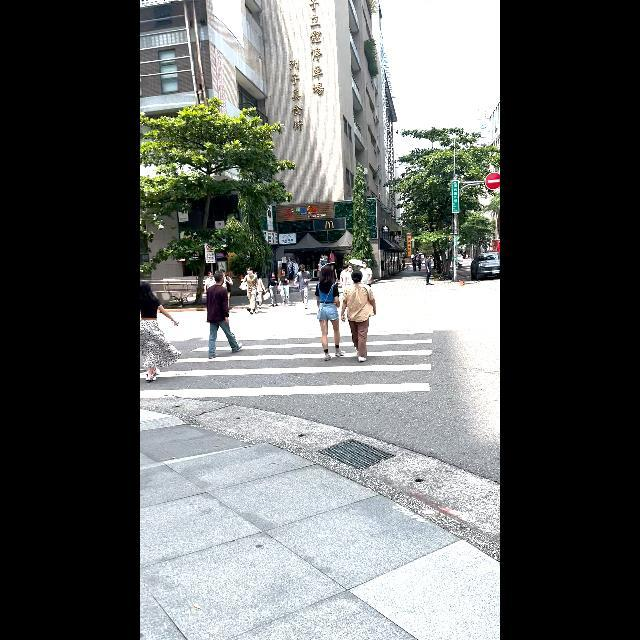sidewalk: (141, 329, 434, 399)
